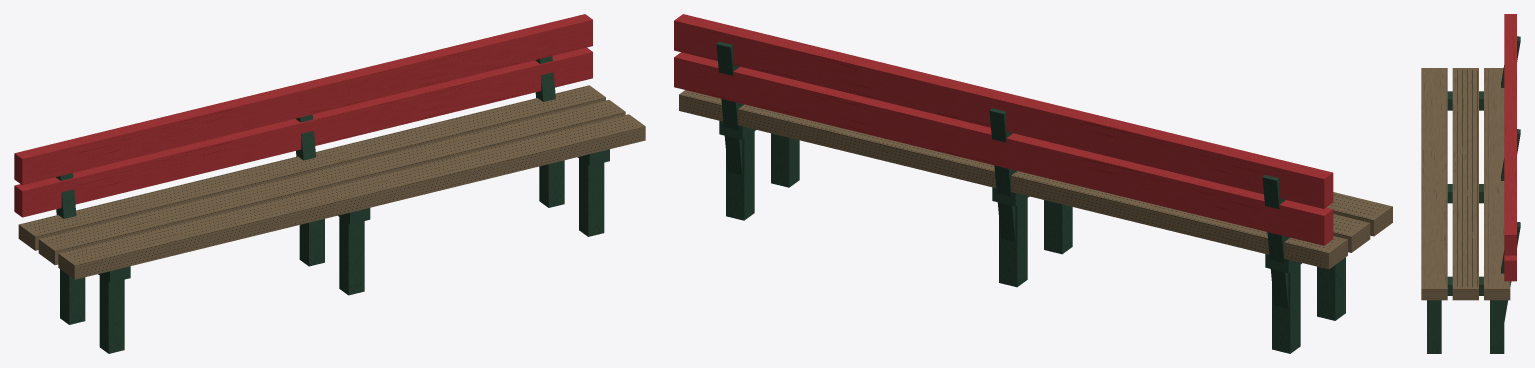
The model's file is Bench.fbx.
3 views of the same model, side by side, from view 1: azimuth 30°, elevation 25°; view 2: azimuth 150°, elevation 25°; view 3: azimuth 270°, elevation 25° (orthographic). The views are drawn at different scales.
Visible parts, largest first — view 1: Bench; view 2: Bench; view 3: Bench.
Boxes of the visible parts, x1,y1,x2,y2 form: Bench: (14,14,645,353); Bench: (674,14,1392,353); Bench: (1421,14,1520,353).
Bounding box in the file's own units: 500 × 141 × 94.94.
